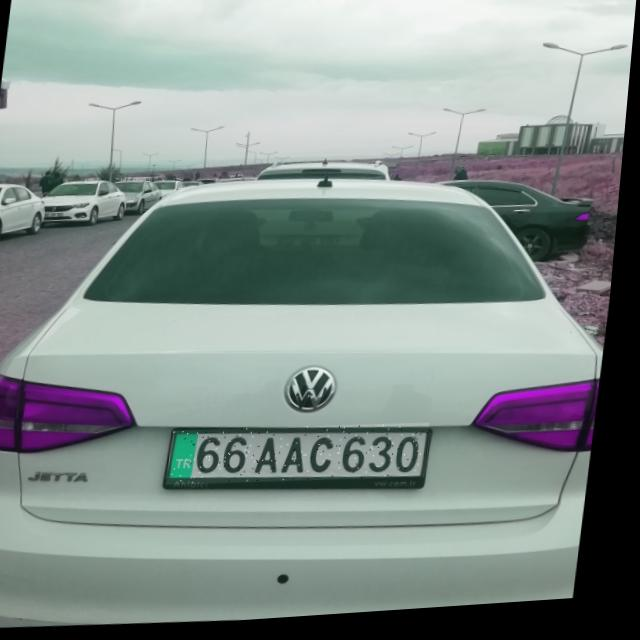license_plate: (174, 420, 438, 497)
